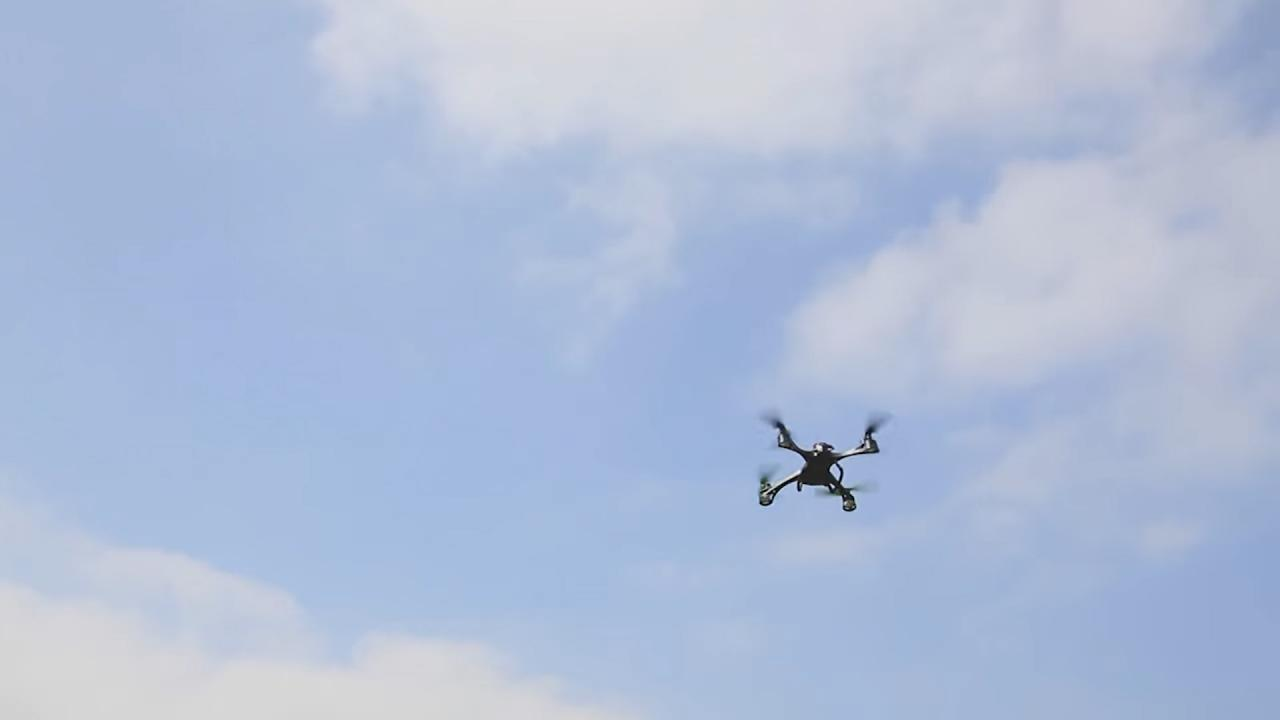Drone: (737, 387, 901, 529)
